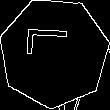L_E: (29, 36, 80, 70)
